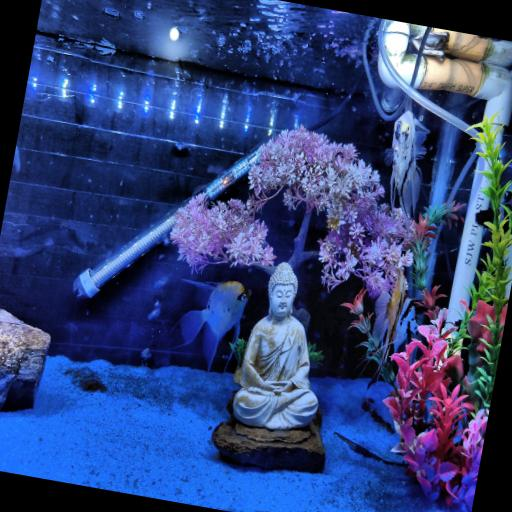Fish: (180, 281, 250, 372), (385, 111, 429, 221), (368, 268, 406, 388), (13, 147, 20, 171), (499, 49, 511, 61), (141, 349, 151, 359)
